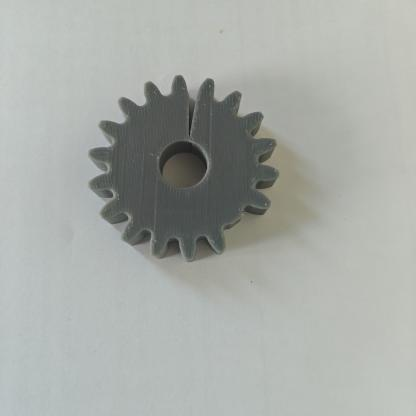defect: (152, 61, 242, 164), (204, 197, 287, 266)
gear: (76, 55, 301, 292)
